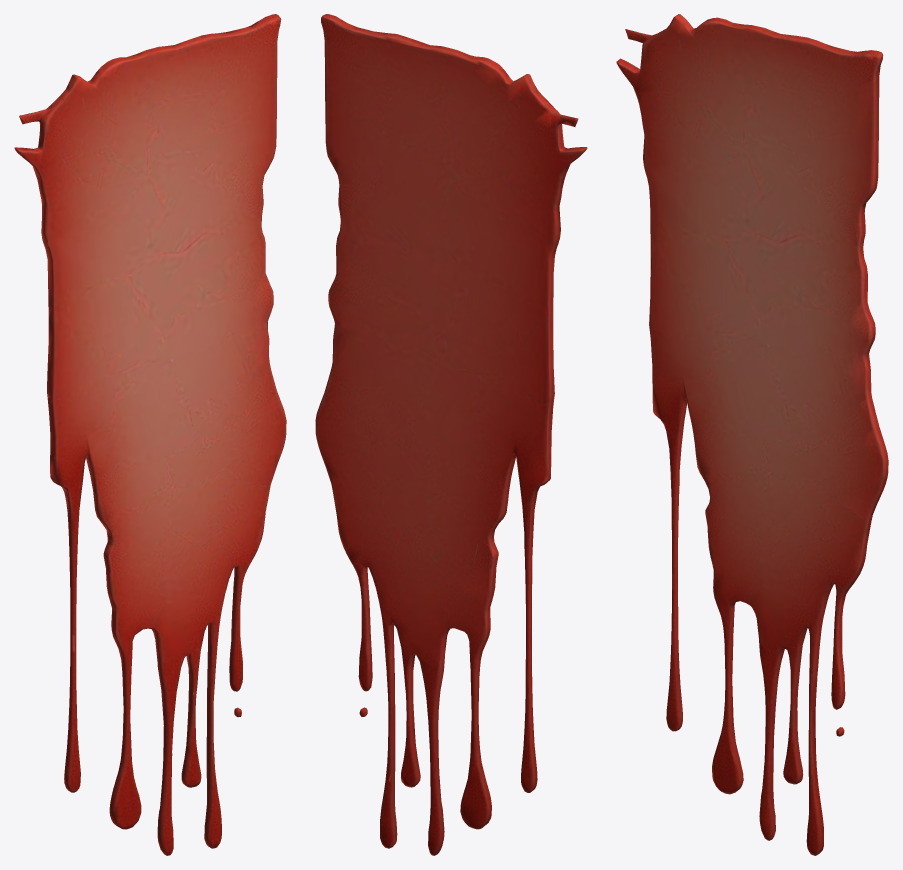
Rendered from blood_decal_2.glb.
3 renders of one model, left to right at view 1: azimuth 30°, elevation 25°; view 2: azimuth 150°, elevation 25°; view 3: azimuth 330°, elevation 25°, orthographic.
Parts seen in each view (by area): view 1: mesh_node; view 2: mesh_node; view 3: mesh_node.
Part boxes in pixels (x1,y1,x2,y2): mesh_node: [14, 14, 286, 855]; mesh_node: [315, 14, 587, 855]; mesh_node: [616, 14, 888, 855].
Bounding box in the file's own units: 0.6534 × 1.9 × 0.0227.
Materials: 1 (1 with a texture image).
